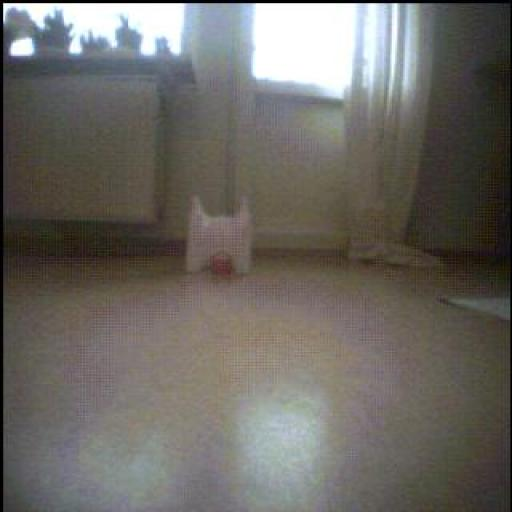Basket: (211, 254, 233, 276)
